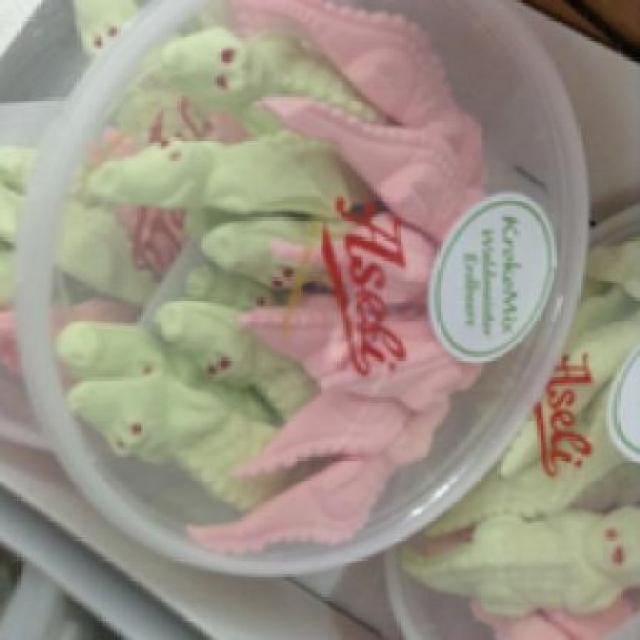Candy: (33, 2, 590, 568)
